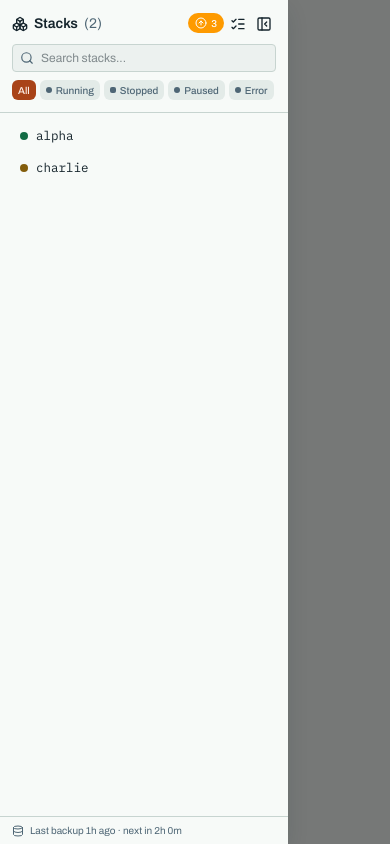
it: Sidebar › filters the stack list to paused stacks
The image size is (390, 844).
Check: the text "charlie" is shown, box [36,159,88,175]
Click the button "Paused" at (197, 90), box [168,80,225,100]
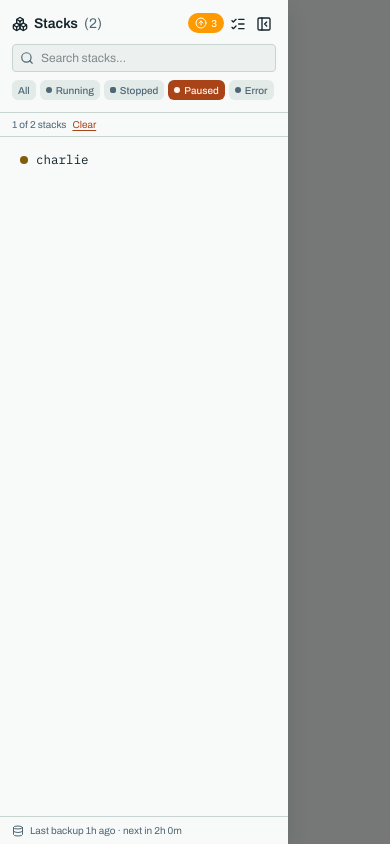
Check: the text "charlie" is shown, box [36,151,88,167]
Check: the link "alpha" is gone
